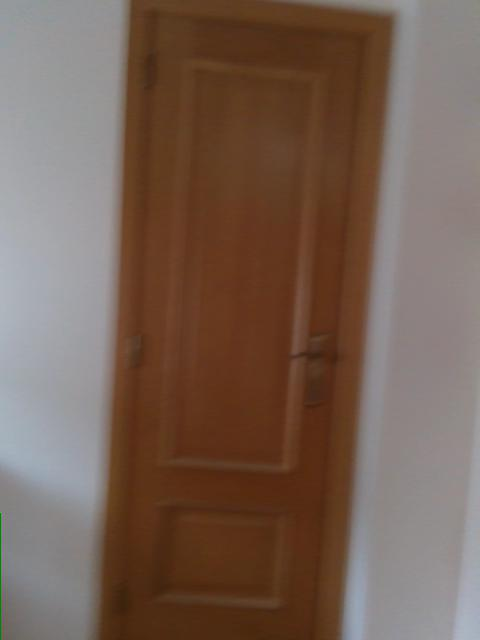door: (118, 12, 364, 637)
